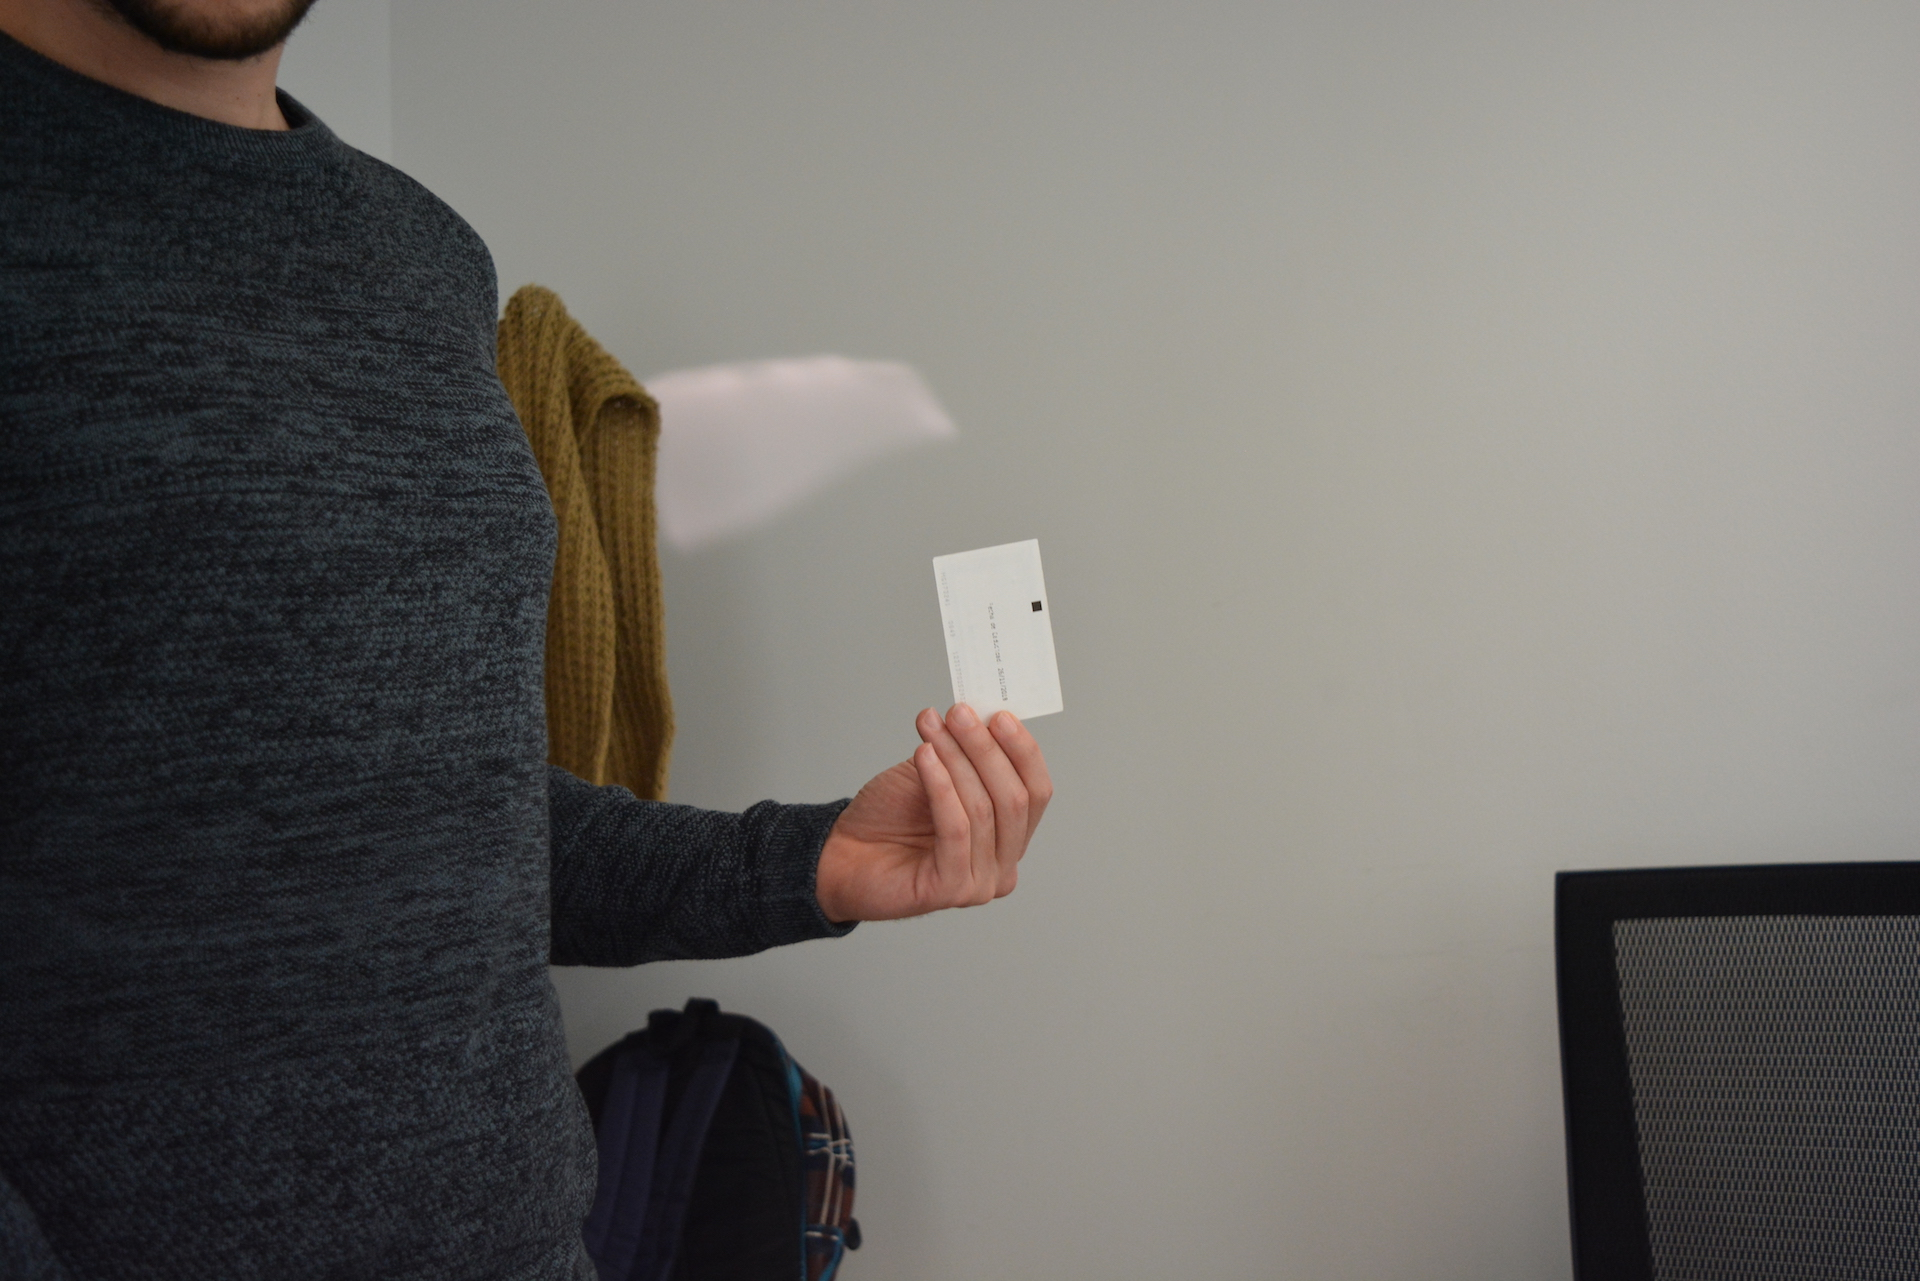tarjeta: (931, 538, 1065, 731)
